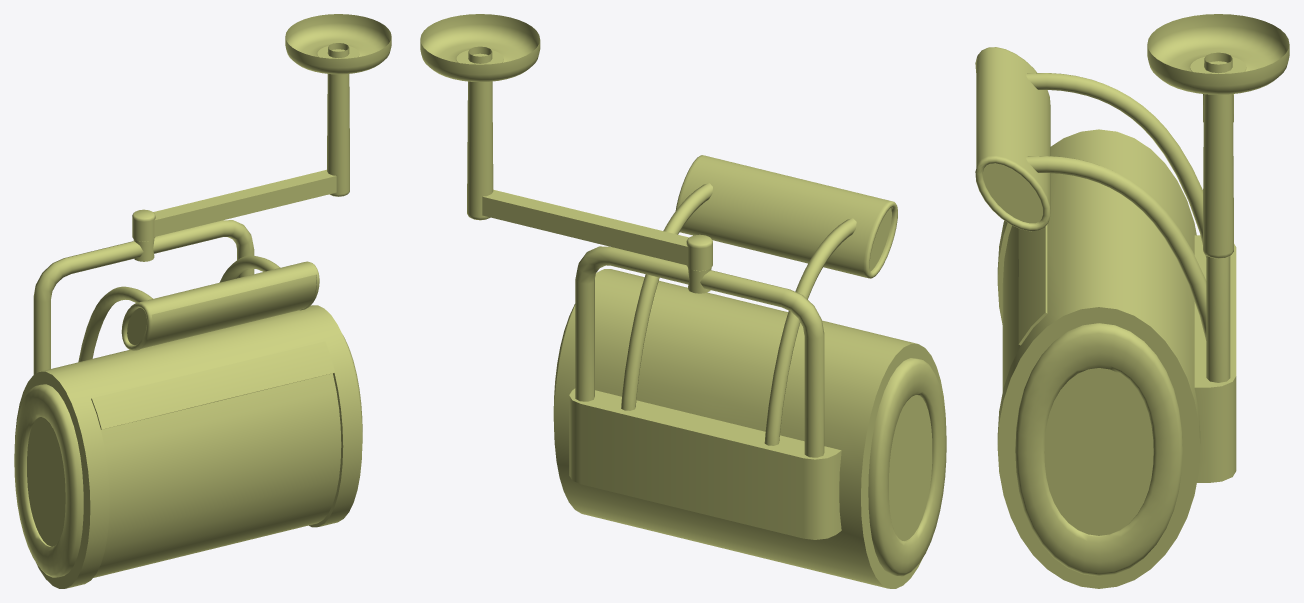
File: Cigarette_dispenser.fbx
3 renders of one model, left to right at view 1: azimuth 30°, elevation 25°; view 2: azimuth 150°, elevation 25°; view 3: azimuth 270°, elevation 25°, orthographic. The views are drawn at different scales.
Visible parts, largest first — view 1: Cigarette_dispenser_l, Cigarette_dispenser_m, Cigarette_dispenser; view 2: Cigarette_dispenser_l, Cigarette_dispenser_m, Cigarette_dispenser; view 3: Cigarette_dispenser_l, Cigarette_dispenser, Cigarette_dispenser_m.
Part boxes in pixels (left/top/right/bottom): Cigarette_dispenser_l: left=14, top=220, right=362, bottom=588; Cigarette_dispenser_m: left=132, top=43, right=349, bottom=241; Cigarette_dispenser: left=285, top=14, right=391, bottom=74; Cigarette_dispenser_l: left=553, top=155, right=946, bottom=588; Cigarette_dispenser_m: left=467, top=46, right=712, bottom=270; Cigarette_dispenser: left=420, top=14, right=540, bottom=82; Cigarette_dispenser_l: left=975, top=47, right=1236, bottom=588; Cigarette_dispenser: left=1147, top=14, right=1289, bottom=94; Cigarette_dispenser_m: left=1203, top=52, right=1233, bottom=258.
Size of the model in its own units: 198 by 214 by 104.
